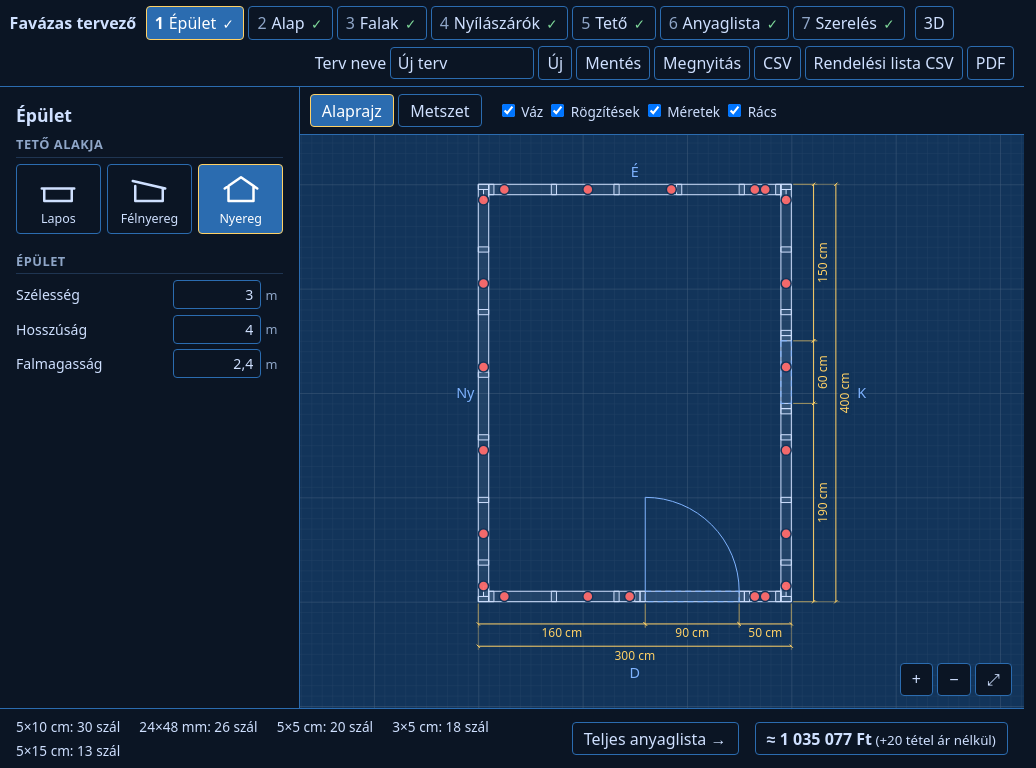
Test: assembly step appears after materials and shows step list
Step 1. Click the button "7 Szerelés ✓" → (849, 23), box [792,6,905,40]
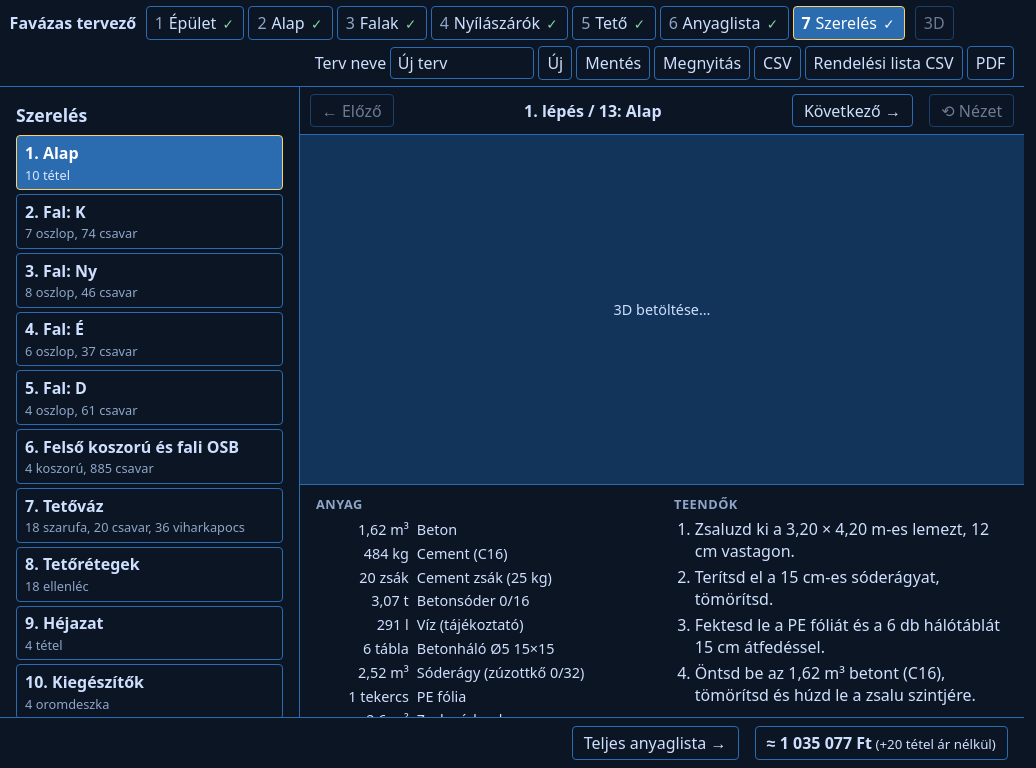
Expected: the text with class "as-sum" reads "7 oszlop, 74 csavar", [25,224,138,242]
Note: kattintás a listában: lépésváltás
Step 2. Click the button "2. Fal: K 7 oszlop, 74 csavar" → (64, 212), box [16,194,283,249]
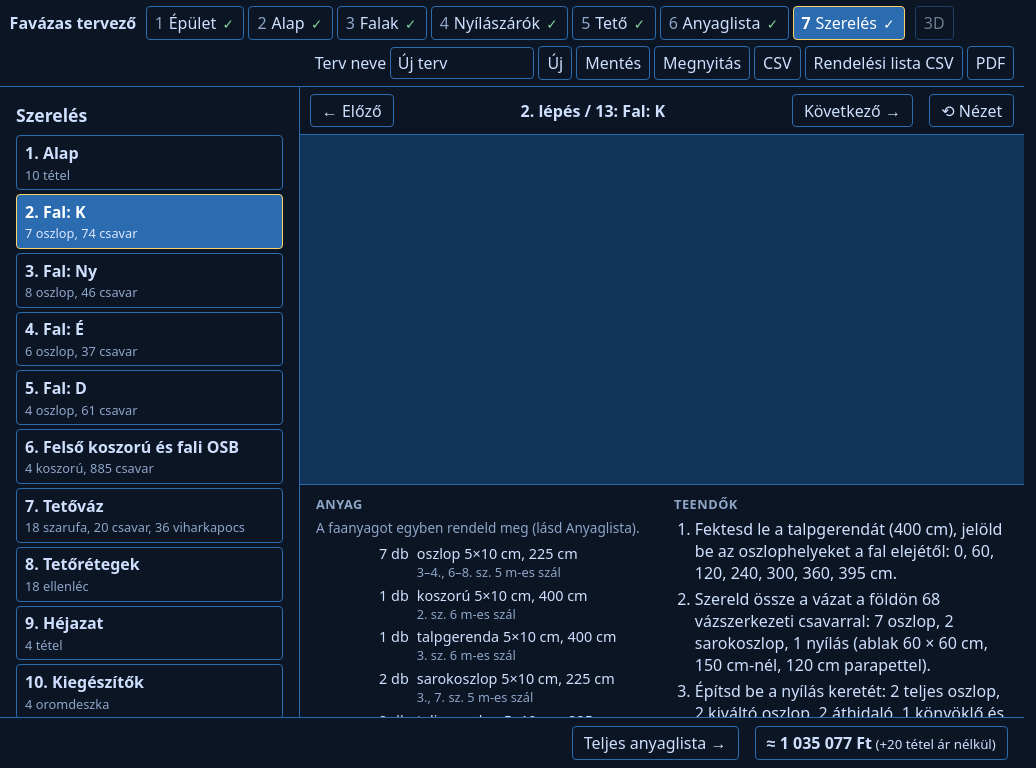
Expected: the heading with class "assembly-title" shows "Fal: K", [622,100,665,122]
